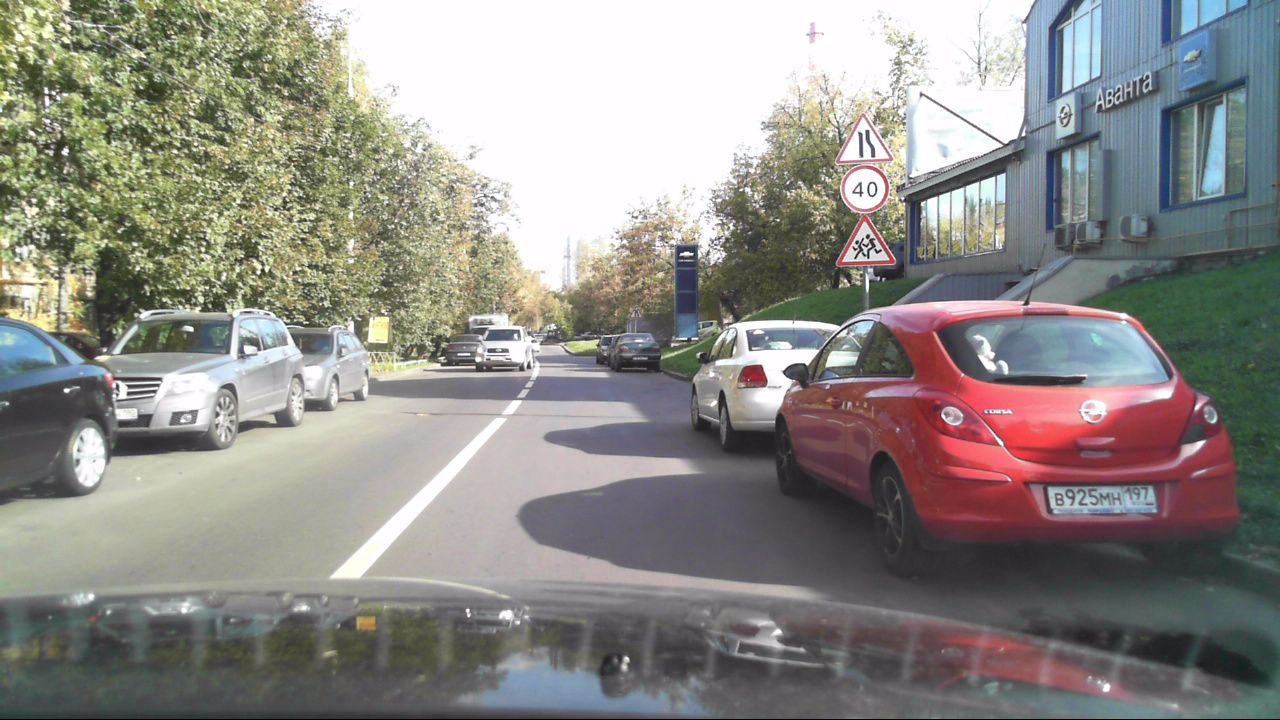speed_warning_40: (841, 161, 891, 217)
